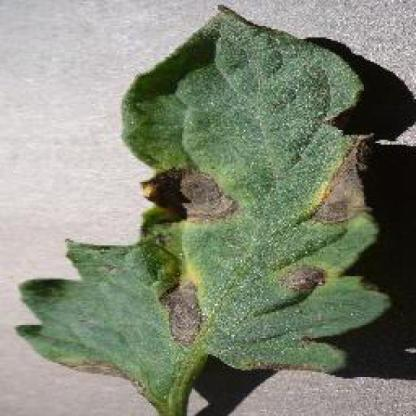Tomato_Spider_Mites: (17, 10, 390, 376)
